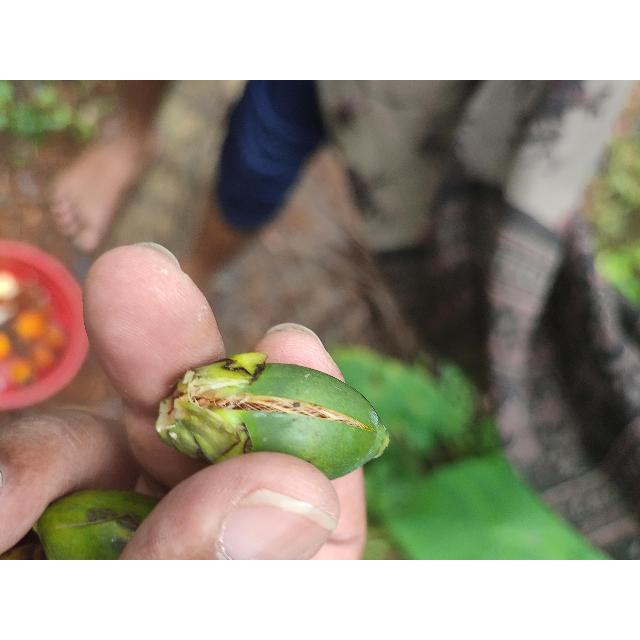damaged: (154, 353, 391, 482)
